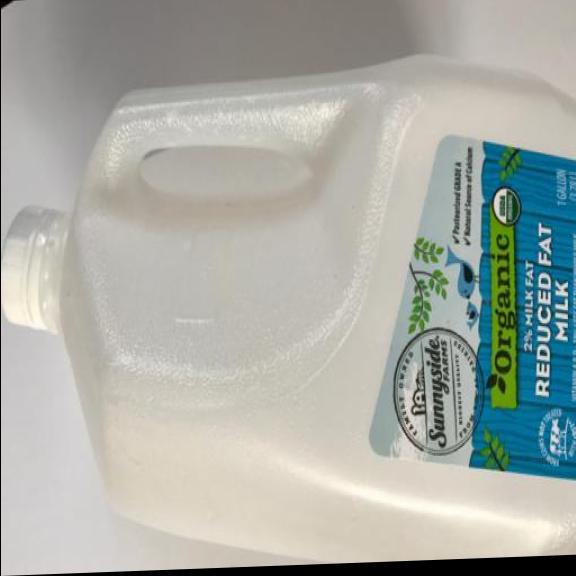Plastik: (3, 53, 576, 571)
